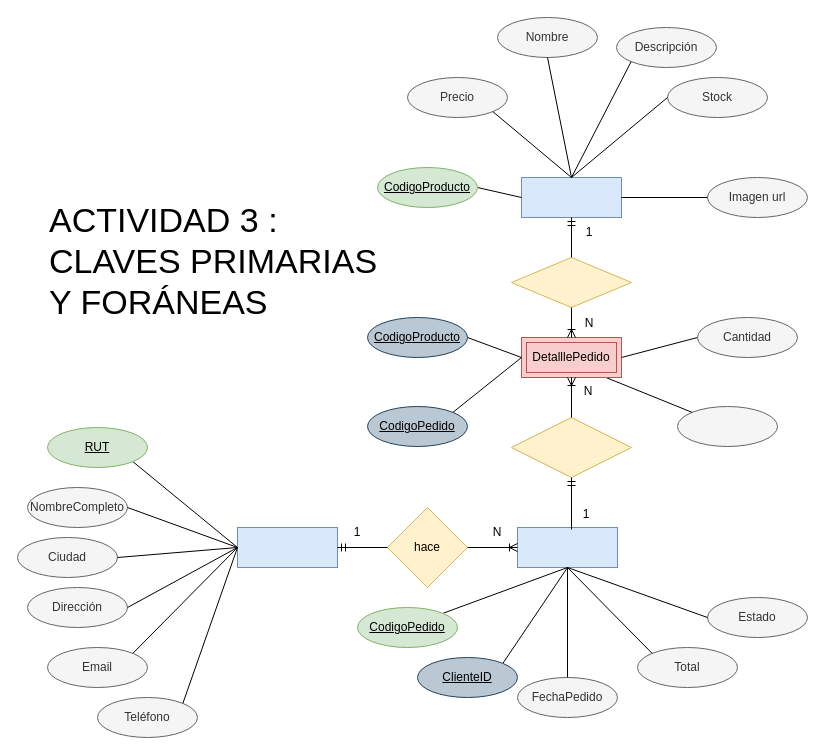
Some shapes in this 825 by 755 pixel diagram are drawn without their labels. The shapes that lost their labels are listed below. From the top down, each one's box as (x1, y1, x2, y2) in pixels, then its label:
(520, 176, 622, 218): PRODUCTO
(510, 256, 632, 308): esta
(676, 406, 778, 446): SubTotal
(510, 416, 632, 478): tiene
(236, 526, 338, 568): CLIENTE
(516, 526, 618, 568): PEDIDOS
